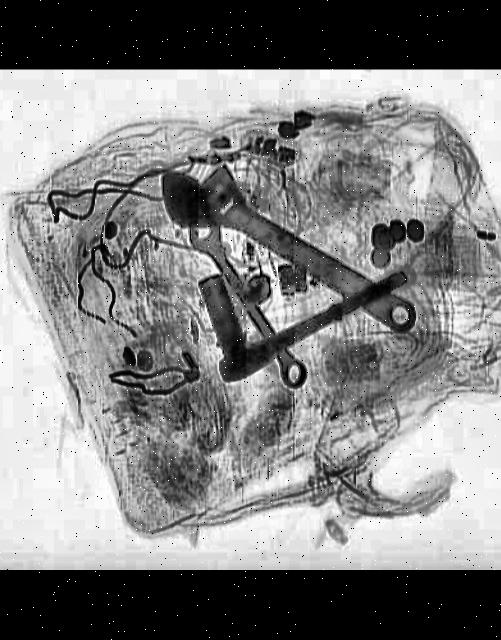Wrench: (139, 144, 430, 362), (177, 216, 316, 395)
